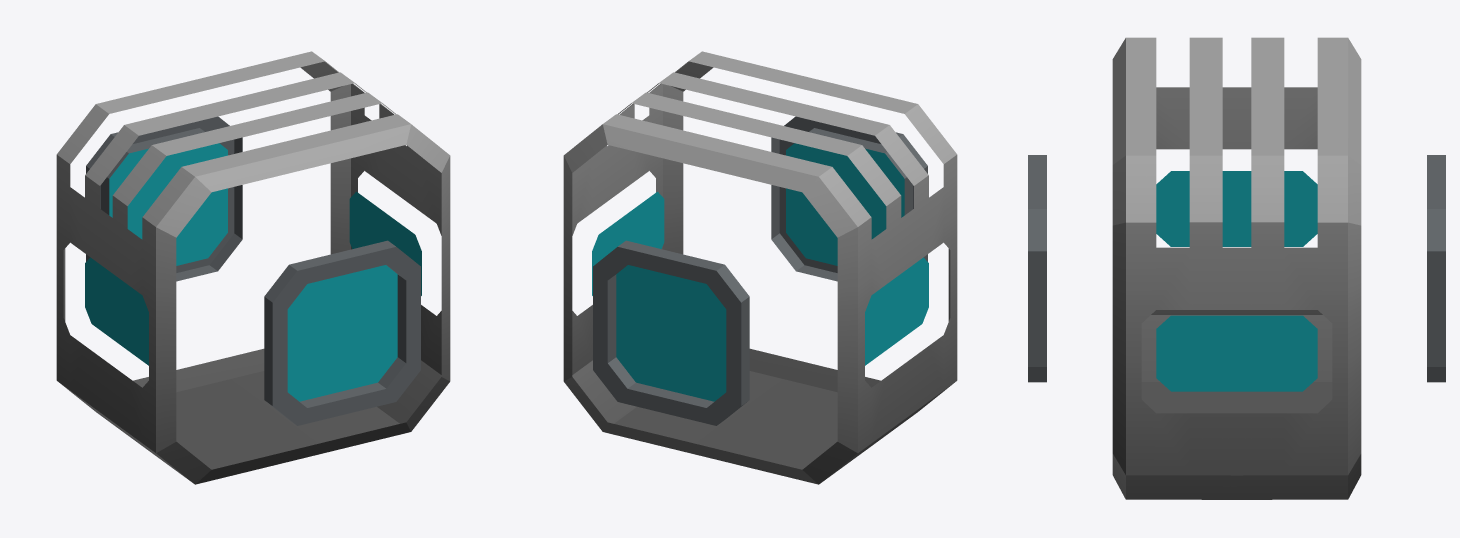
File: armour.fbx
3 views of the same model, side by side, from view 1: azimuth 30°, elevation 25°; view 2: azimuth 150°, elevation 25°; view 3: azimuth 270°, elevation 25° (orthographic). The views are drawn at different scales.
Visible parts, largest first — view 1: Cube.012; view 2: Cube.012; view 3: Cube.012.
Boxes of the visible parts, bbox=[...] form: Cube.012: bbox=[56, 51, 450, 484]; Cube.012: bbox=[563, 51, 957, 484]; Cube.012: bbox=[1028, 37, 1445, 499].
Bounding box in the file's own units: 22 × 22.09 × 22.
